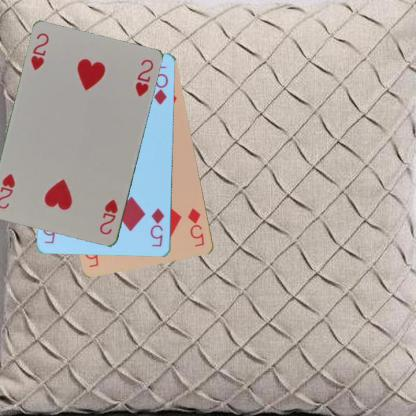2h: (28, 31, 50, 72), (97, 197, 120, 236)
5d: (186, 206, 206, 248), (148, 206, 165, 248)
